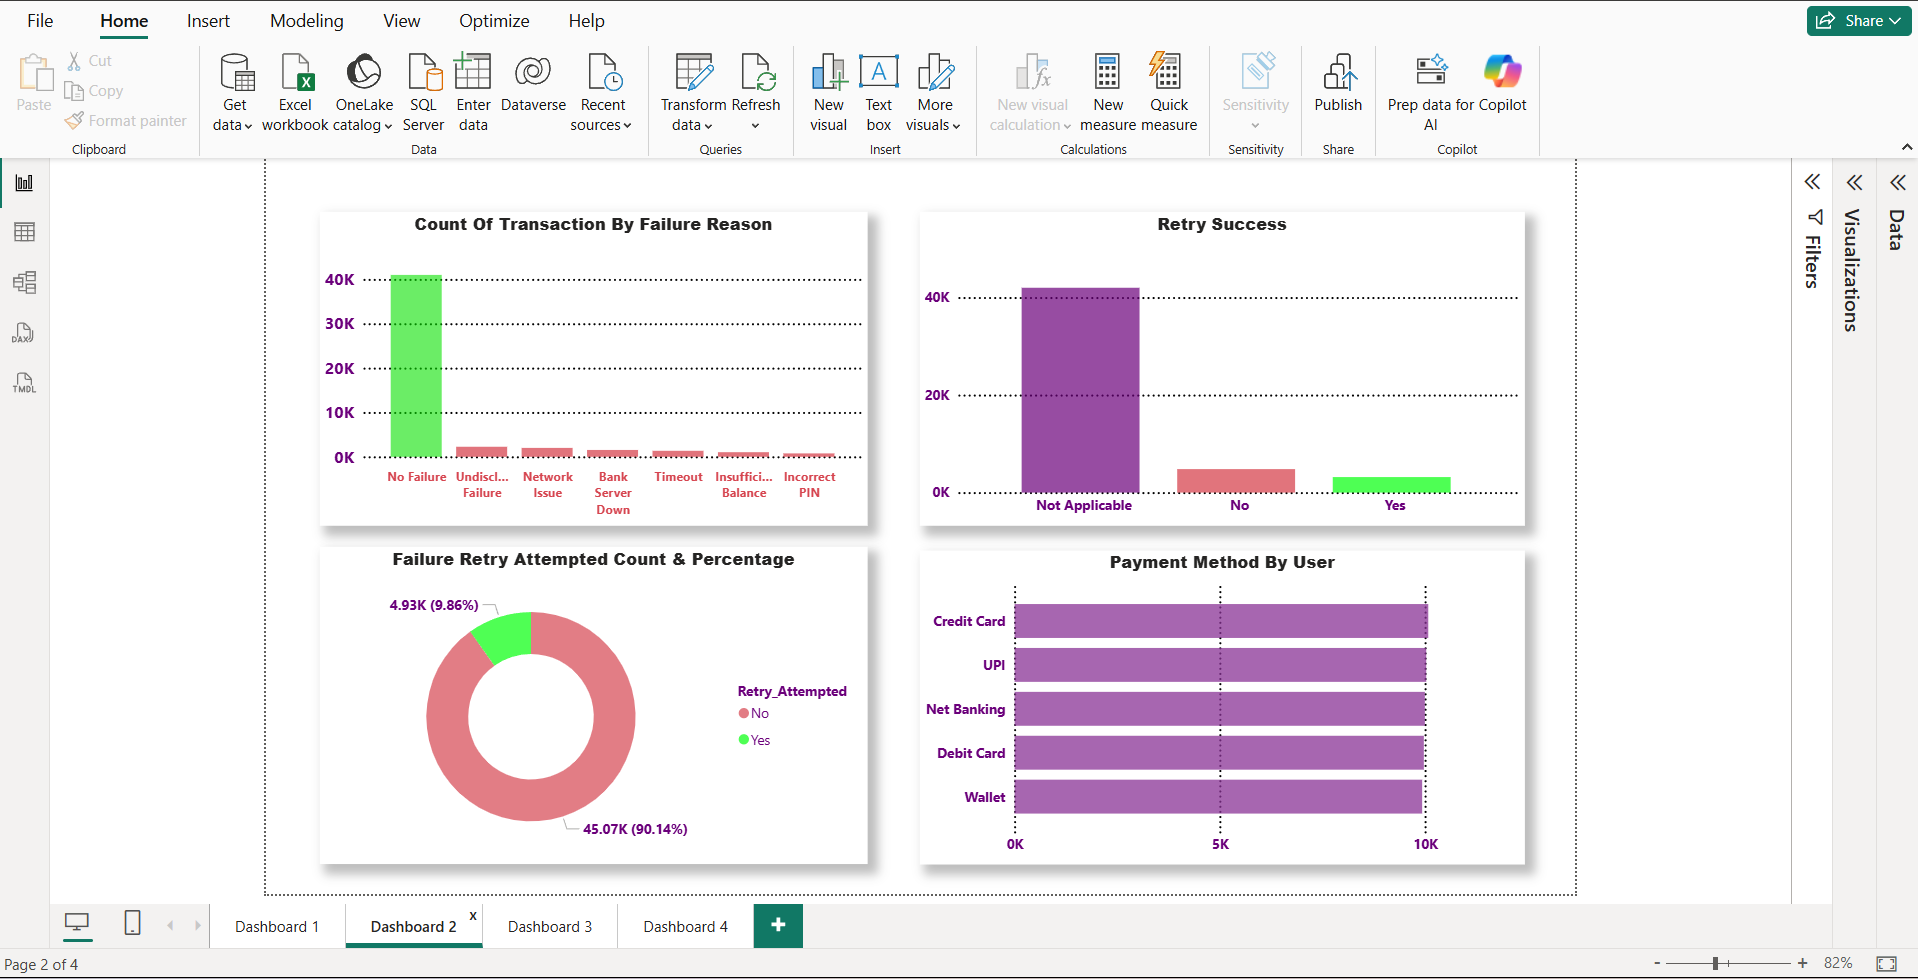

This screenshot's page, from the dashboard's own definition file:
{"tool":"powerbi","page":{"name":"Page 2","canvas":[1280,720],"ordinal":1},"visuals":[{"type":"columnChart","title":"Count Of Transaction By Failure  Reason","fields":{"Category":["digital_payment_processed (2).failure_reason"],"Y":["CountNonNull(digital_payment_processed (2).transaction_id)"]},"box":[52.6,52.6,535.6,306.9],"z":0},{"type":"barChart","title":"Payment Method By User","fields":{"Category":["digital_payment_processed (2).payment_method"],"Y":["CountNonNull(digital_payment_processed (2).transaction_id)"]},"box":[639.5,384,591.9,306.9],"z":1000},{"type":"lineClusteredColumnComboChart","title":"Retry Success","fields":{"Category":["digital_payment_processed (2).retry_success"],"Y":["CountNonNull(digital_payment_processed (2).retry_count)"]},"box":[639.5,52.6,591.9,306.9],"z":2000},{"type":"donutChart","title":"Failure Retry Attempted Count & Percentage","fields":{"Category":["digital_payment_processed (2).retry_attempted"],"Y":["CountNonNull(digital_payment_processed (2).retry_count)"]},"box":[52.6,380.3,535.6,310.6],"z":3000}]}

Visuals, with their boxes on the page's 1280x720 design canvas (x1, y1, x2, y2). These are canvas units, not pixel positions in the 1918x979 screenshot, which may show the page scaled, cropped or inside an application window:
"Count Of Transaction By Failure  Reason" columnChart: bbox=[53, 53, 588, 360]
"Payment Method By User" barChart: bbox=[640, 384, 1231, 691]
"Retry Success" lineClusteredColumnComboChart: bbox=[640, 53, 1231, 360]
"Failure Retry Attempted Count & Percentage" donutChart: bbox=[53, 380, 588, 691]
